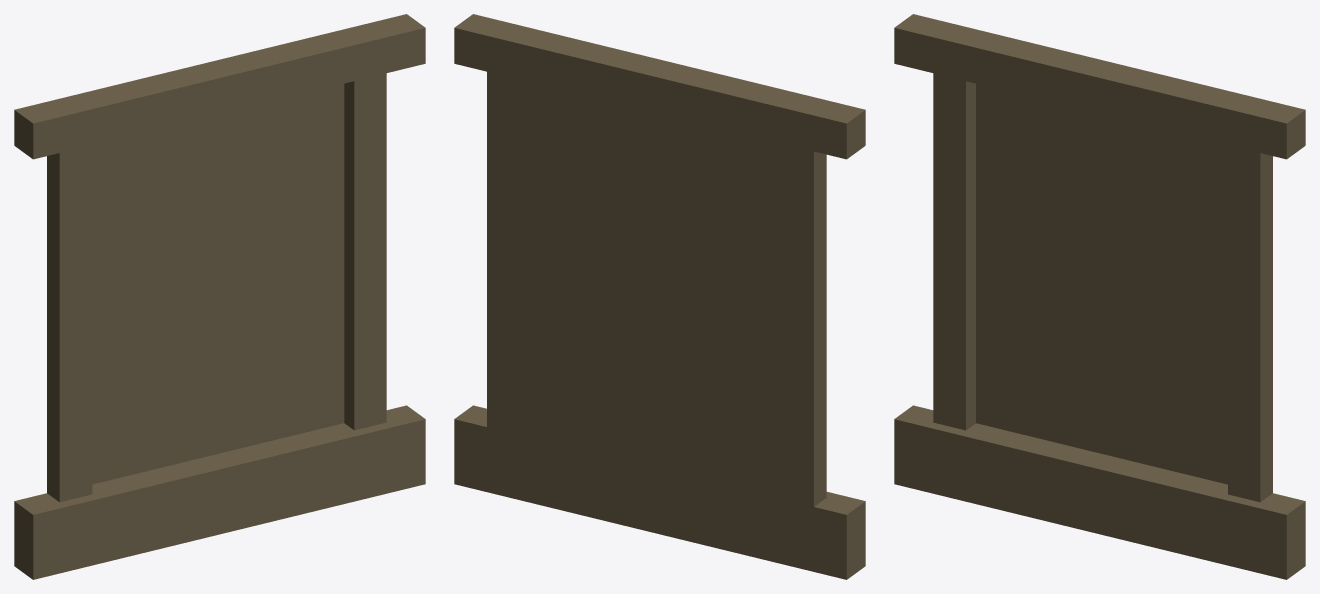
File: Window_Base.fbx
The picture shows the model from 3 angles, left to right: view 1: azimuth 30°, elevation 25°; view 2: azimuth 150°, elevation 25°; view 3: azimuth 330°, elevation 25°; orthographic projection.
Visible parts, largest first — view 1: Window_Base; view 2: Window_Base; view 3: Window_Base.
Part boxes in pixels (x1,y1,x2,y2): Window_Base: [14, 14, 425, 579]; Window_Base: [454, 14, 865, 579]; Window_Base: [894, 14, 1305, 579].
Size of the model in its own units: 3.6 by 4 by 0.3.
